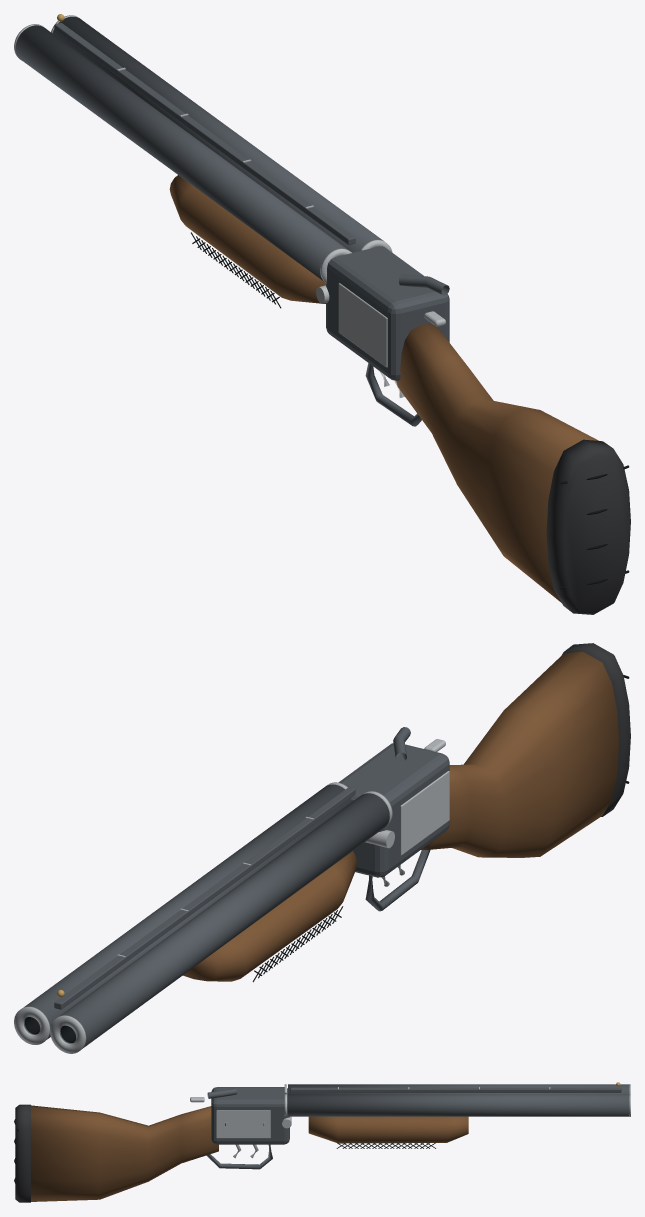
File: shotgun.glb
3 renders of one model, top to bottom at view 1: azimuth 30°, elevation 25°; view 2: azimuth 150°, elevation 25°; view 3: azimuth 270°, elevation 25°, orthographic. The views are drawn at different scales.
Visible parts, largest first — view 1: StockAndReceiver, BarrelAssembly; view 2: StockAndReceiver, BarrelAssembly; view 3: StockAndReceiver, BarrelAssembly.
Boxes of the visible parts, x1,y1,x2,y2 form: StockAndReceiver: (316,246,630,614); BarrelAssembly: (14,14,392,308); StockAndReceiver: (338,643,630,911); BarrelAssembly: (14,782,392,1053); StockAndReceiver: (14,1087,291,1202); BarrelAssembly: (284,1082,630,1148).
Size of the model in its own units: 0.09 by 0.241 by 1.14.
